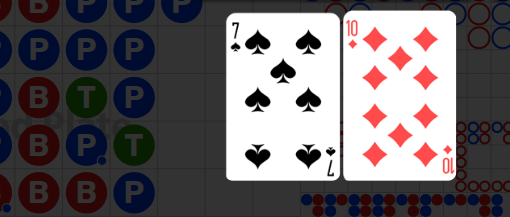10D: (346, 19, 359, 50)
7S: (229, 20, 242, 54)
